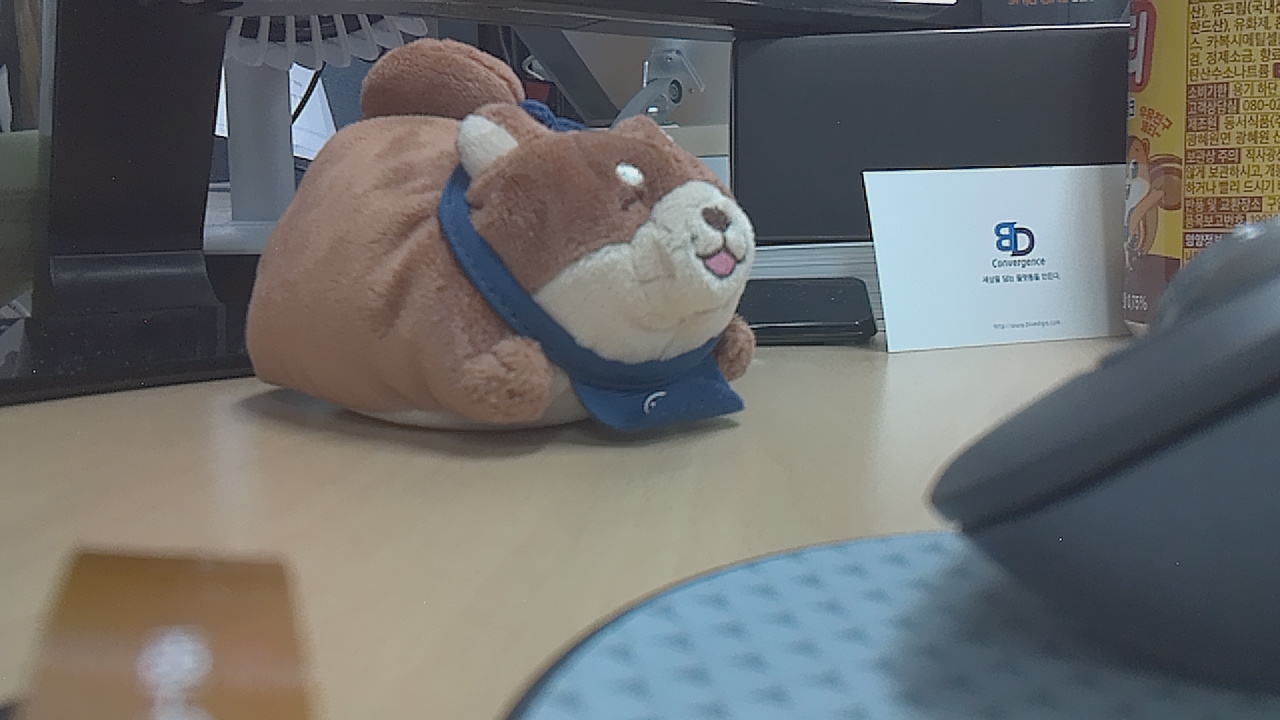cuteDog: (149, 54, 763, 478)
